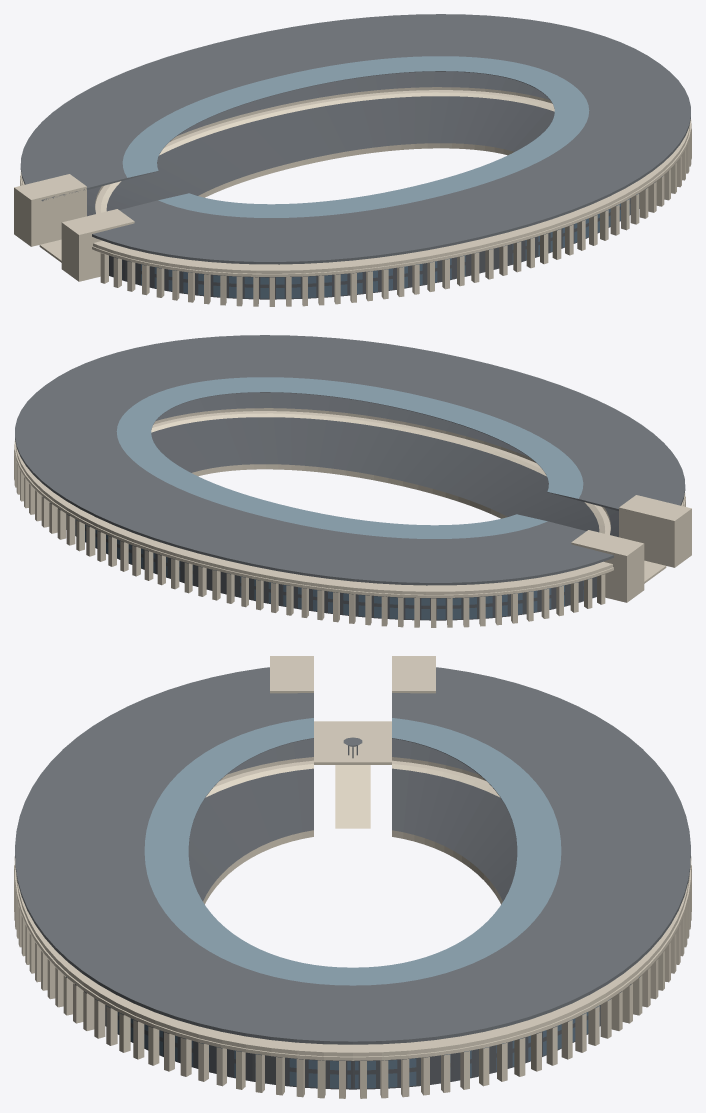
Rendered from berlin-olympiastadion.glb.
3 views of the same model, one above another, from view 1: azimuth 30°, elevation 25°; view 2: azimuth 150°, elevation 25°; view 3: azimuth 270°, elevation 25° (orthographic). The views are drawn at different scales.
Parts seen in each view (by area): view 1: Olympiastadion Berlin; view 2: Olympiastadion Berlin; view 3: Olympiastadion Berlin.
Boxes of the visible parts, x1,y1,x2,y2 form: Olympiastadion Berlin: (14, 14, 691, 306); Olympiastadion Berlin: (14, 335, 691, 627); Olympiastadion Berlin: (14, 656, 691, 1098).
Bounding box in the file's own units: 309 × 37.1 × 231.
